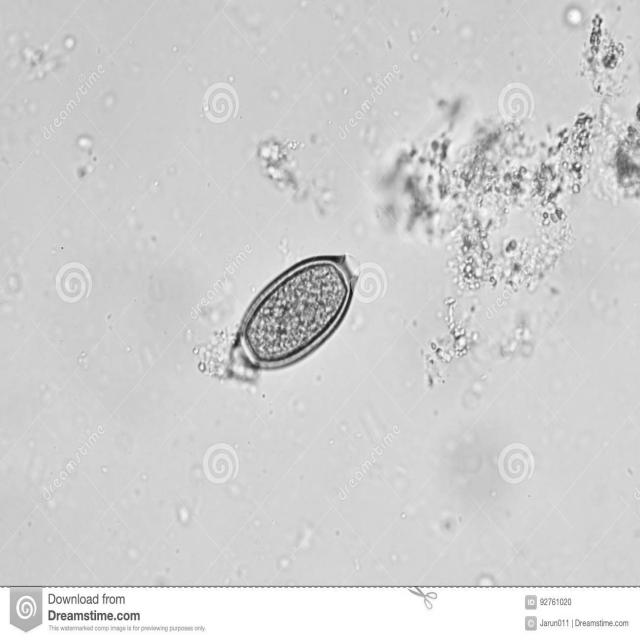Trichuris Trichiura: (222, 244, 360, 389)
